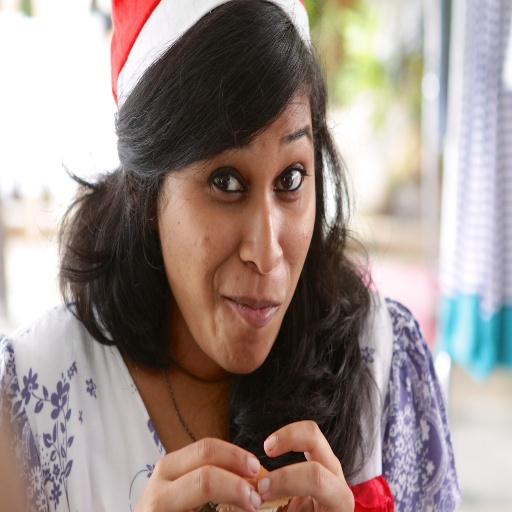hand: (131, 436, 262, 511), (251, 425, 355, 495)
